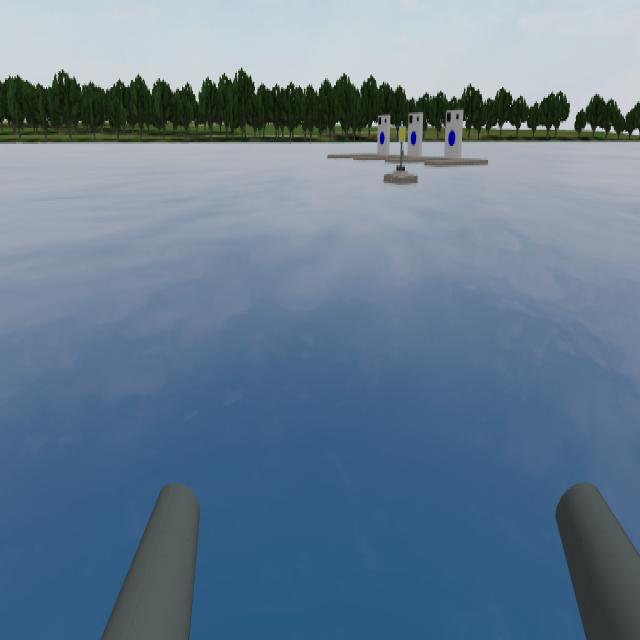yellow_pole: (393, 117, 411, 152)
